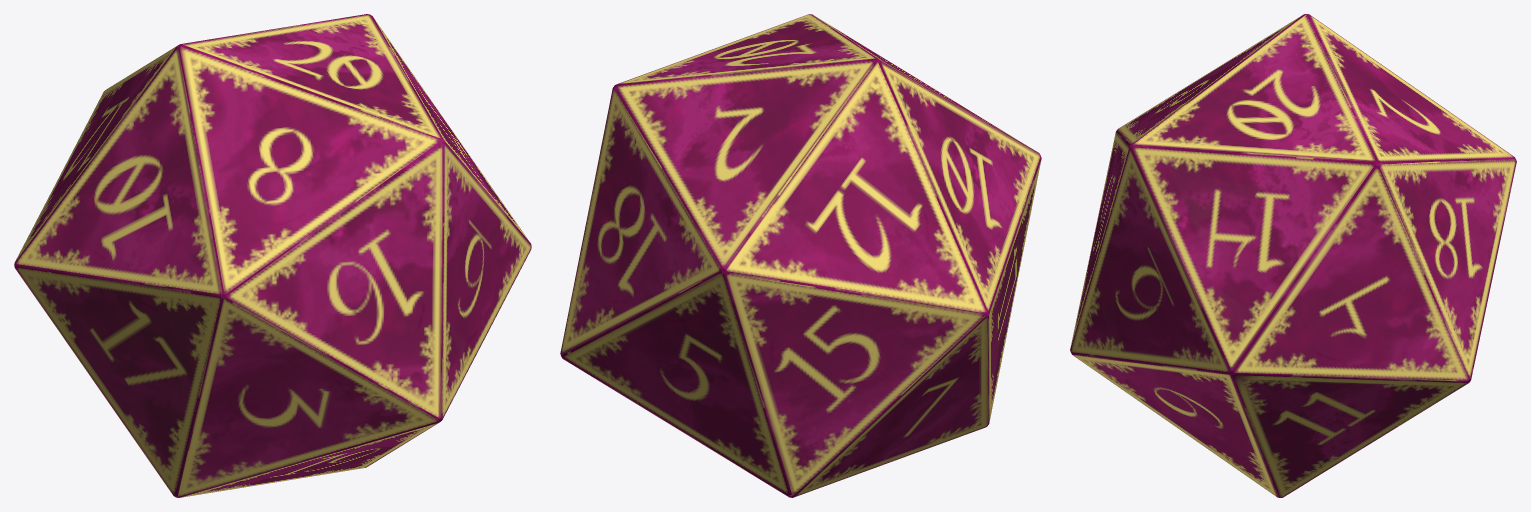
The model's file is GayumaD20_512Res.glb.
The picture shows the model from 3 angles, left to right: view 1: azimuth 30°, elevation 25°; view 2: azimuth 150°, elevation 25°; view 3: azimuth 270°, elevation 25°; orthographic projection. The views are drawn at different scales.
Visible parts, largest first — view 1: polySurface2; view 2: polySurface2; view 3: polySurface2.
Part boxes in pixels (x1,y1,x2,y2): polySurface2: (14,14,531,497); polySurface2: (560,14,1041,497); polySurface2: (1070,14,1516,497).
Size of the model in its own units: 0.0213 by 0.0206 by 0.0203.
1 material, 1 textured.
